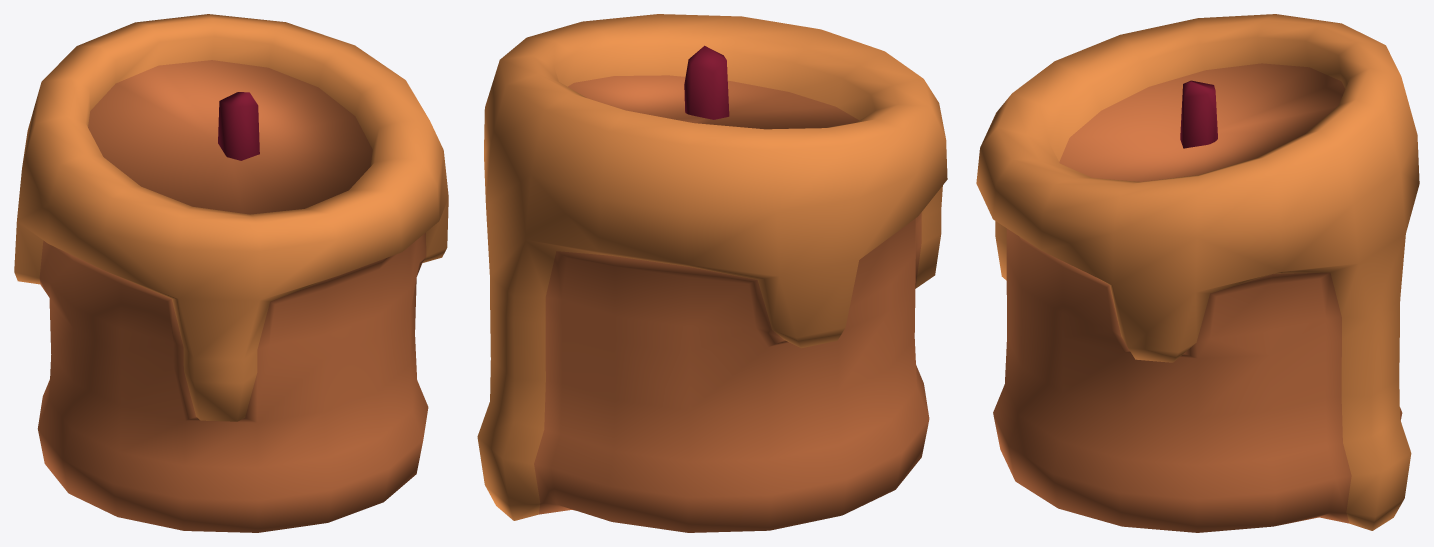
File: Candle_03.fbx
The picture shows the model from 3 angles, left to right: view 1: azimuth 30°, elevation 25°; view 2: azimuth 150°, elevation 25°; view 3: azimuth 270°, elevation 25°; orthographic projection. The views are drawn at different scales.
Parts seen in each view (by area): view 1: Candle_03; view 2: Candle_03; view 3: Candle_03.
Boxes of the visible parts, x1,y1,x2,y2 form: Candle_03: (14,14,448,532); Candle_03: (477,14,947,532); Candle_03: (976,14,1419,532).
Bounding box in the file's own units: 11.65 × 11.57 × 11.51.
